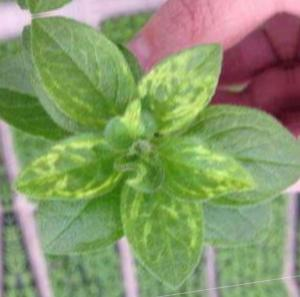Tomato leaf mosaic virus: (111, 147, 213, 293), (30, 7, 146, 133), (146, 119, 261, 207), (7, 128, 131, 209)
